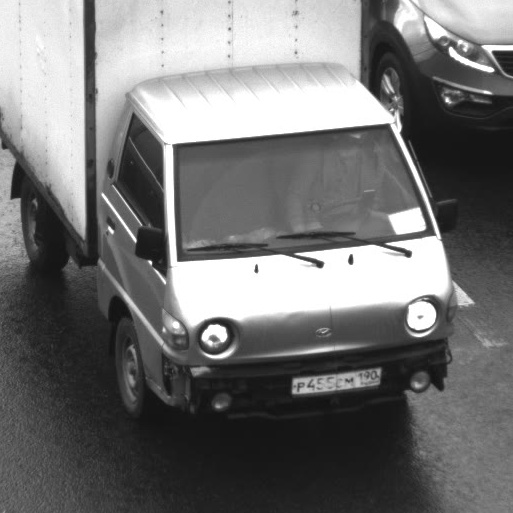plate: (279, 356, 390, 402)
